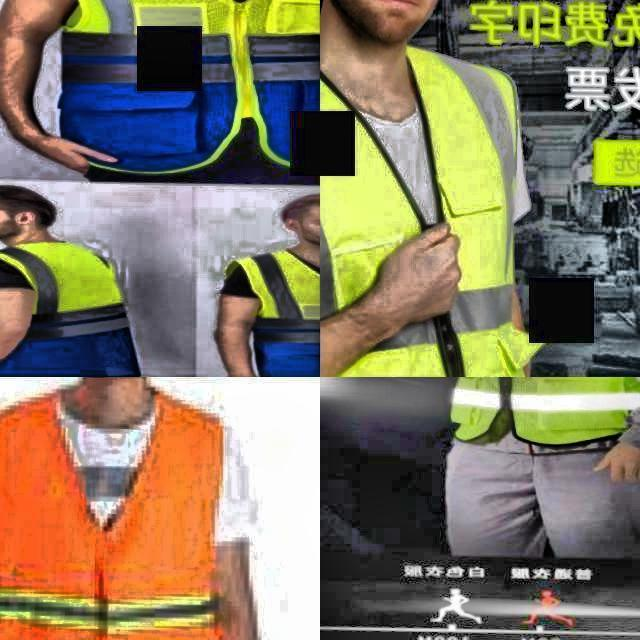safety_jacket: (320, 43, 541, 377), (0, 377, 243, 640), (46, 0, 320, 183), (0, 228, 120, 377), (430, 377, 640, 457), (234, 240, 320, 377)
